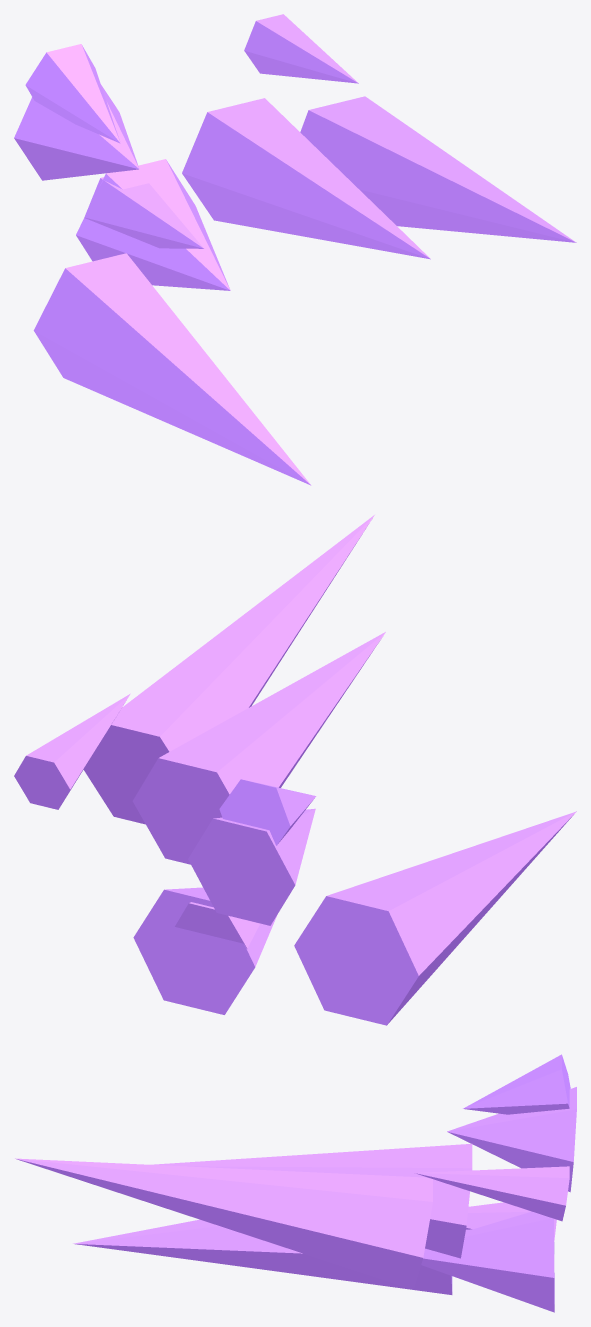
Rendered from Akariz_Crystal_Violet_Rift.glb.
3 views of the same model, one above another, from view 1: azimuth 30°, elevation 25°; view 2: azimuth 150°, elevation 25°; view 3: azimuth 270°, elevation 25° (orthographic). The views are drawn at different scales.
Parts seen in each view (by area): view 1: Akariz_Crystal_Violet_Rift_1, Akariz_Crystal_Violet_Rift_7, Akariz_Crystal_Violet_Rift_6, Akariz_Crystal_Violet_Rift_2, Akariz_Crystal_Violet_Rift_5, Akariz_Crystal_Violet_Rift_0, Akariz_Crystal_Violet_Rift_3, Akariz_Crystal_Violet_Rift_4; view 2: Akariz_Crystal_Violet_Rift_1, Akariz_Crystal_Violet_Rift_6, Akariz_Crystal_Violet_Rift_7, Akariz_Crystal_Violet_Rift_2, Akariz_Crystal_Violet_Rift_5, Akariz_Crystal_Violet_Rift_4, Akariz_Crystal_Violet_Rift_0, Akariz_Crystal_Violet_Rift_3; view 3: Akariz_Crystal_Violet_Rift_6, Akariz_Crystal_Violet_Rift_7, Akariz_Crystal_Violet_Rift_1, Akariz_Crystal_Violet_Rift_2, Akariz_Crystal_Violet_Rift_5, Akariz_Crystal_Violet_Rift_4, Akariz_Crystal_Violet_Rift_0, Akariz_Crystal_Violet_Rift_3.
Part boxes in pixels (x1=…): Akariz_Crystal_Violet_Rift_1: x1=33, y1=253, x2=311, y2=485; Akariz_Crystal_Violet_Rift_7: x1=182, y1=98, x2=430, y2=259; Akariz_Crystal_Violet_Rift_6: x1=300, y1=96, x2=576, y2=242; Akariz_Crystal_Violet_Rift_2: x1=76, y1=159, x2=230, y2=290; Akariz_Crystal_Violet_Rift_5: x1=14, y1=85, x2=139, y2=180; Akariz_Crystal_Violet_Rift_0: x1=25, y1=44, x2=120, y2=143; Akariz_Crystal_Violet_Rift_3: x1=84, y1=177, x2=203, y2=248; Akariz_Crystal_Violet_Rift_4: x1=244, y1=14, x2=358, y2=83; Akariz_Crystal_Violet_Rift_1: x1=294, y1=811, x2=576, y2=1025; Akariz_Crystal_Violet_Rift_6: x1=83, y1=515, x2=374, y2=824; Akariz_Crystal_Violet_Rift_7: x1=132, y1=632, x2=385, y2=864; Akariz_Crystal_Violet_Rift_2: x1=133, y1=887, x2=277, y2=1014; Akariz_Crystal_Violet_Rift_5: x1=188, y1=808, x2=315, y2=925; Akariz_Crystal_Violet_Rift_4: x1=14, y1=693, x2=130, y2=809; Akariz_Crystal_Violet_Rift_0: x1=219, y1=779, x2=316, y2=845; Akariz_Crystal_Violet_Rift_3: x1=175, y1=902, x2=260, y2=948; Akariz_Crystal_Violet_Rift_6: x1=15, y1=1158, x2=432, y2=1289; Akariz_Crystal_Violet_Rift_7: x1=151, y1=1143, x2=472, y2=1258; Akariz_Crystal_Violet_Rift_1: x1=73, y1=1219, x2=452, y2=1294; Akariz_Crystal_Violet_Rift_2: x1=421, y1=1211, x2=554, y2=1312; Akariz_Crystal_Violet_Rift_5: x1=447, y1=1087, x2=576, y2=1192; Akariz_Crystal_Violet_Rift_4: x1=415, y1=1166, x2=569, y2=1221; Akariz_Crystal_Violet_Rift_0: x1=463, y1=1054, x2=570, y2=1114; Akariz_Crystal_Violet_Rift_3: x1=466, y1=1202, x2=556, y2=1241.
Bounding box in the file's own units: 1.8 × 1.32 × 2.88.
